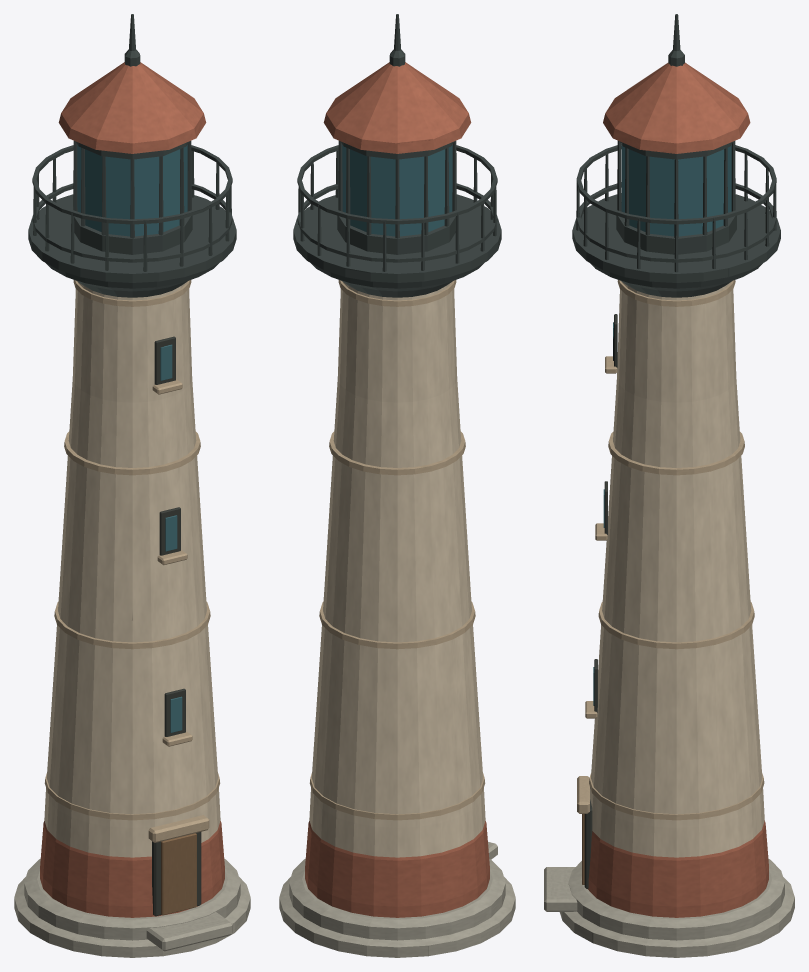
The model's file is lighthouse.glb.
The picture shows the model from 3 angles, left to right: view 1: azimuth 30°, elevation 25°; view 2: azimuth 150°, elevation 25°; view 3: azimuth 270°, elevation 25°; orthographic projection.
Visible parts, largest first — view 1: lighthouse; view 2: lighthouse; view 3: lighthouse.
Boxes of the visible parts, box(x1,y1,x2,y2) form: lighthouse: box(14, 14, 250, 957); lighthouse: box(279, 14, 515, 957); lighthouse: box(544, 14, 794, 957).
Bounding box in the file's own units: 4.04 × 16.84 × 4.29.
Materials: 1 (1 with a texture image).
